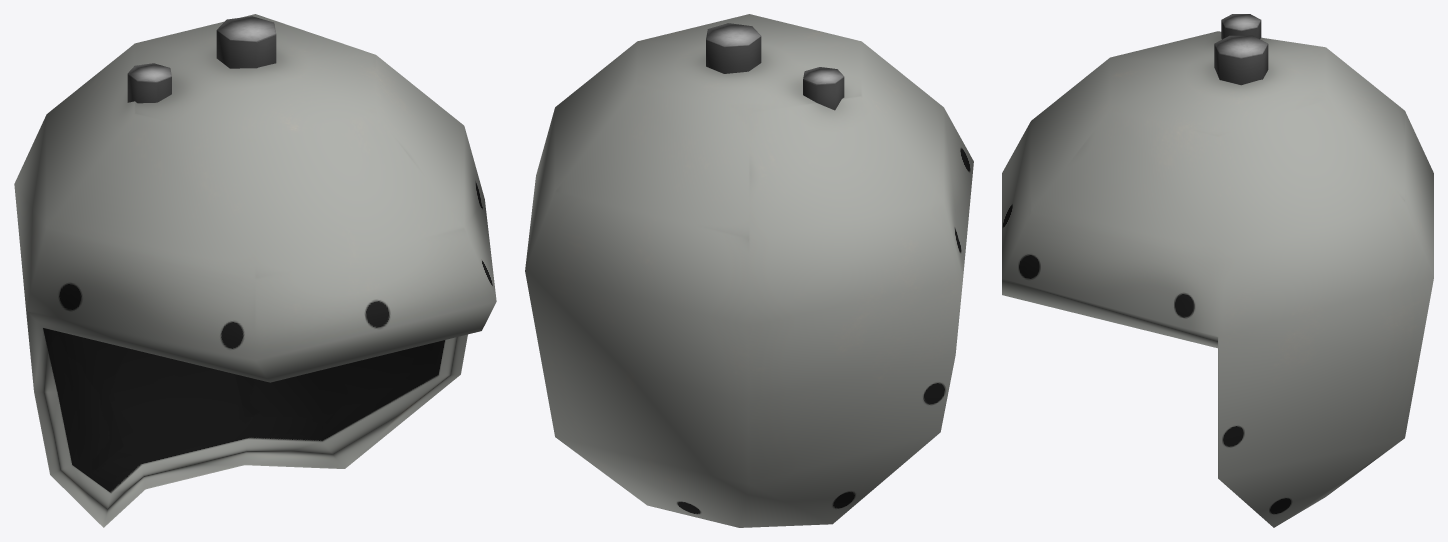
Rendered from Vital_part3.gltf.
3 renders of one model, left to right at view 1: azimuth 30°, elevation 25°; view 2: azimuth 150°, elevation 25°; view 3: azimuth 270°, elevation 25°, orthographic. The views are drawn at different scales.
Parts seen in each view (by area): view 1: pSphere1, pCylinder7, pCylinder8; view 2: pSphere1, pCylinder7, pCylinder8; view 3: pSphere1, pCylinder7, pCylinder8.
Part boxes in pixels (left/top/right/bottom): pSphere1: left=14, top=14, right=496, bottom=527; pCylinder7: left=216, top=16, right=276, bottom=68; pCylinder8: left=127, top=63, right=171, bottom=103; pSphere1: left=525, top=14, right=973, bottom=527; pCylinder7: left=706, top=23, right=761, bottom=73; pCylinder8: left=803, top=67, right=844, bottom=110; pSphere1: left=1002, top=31, right=1433, bottom=527; pCylinder7: left=1214, top=35, right=1268, bottom=85; pCylinder8: left=1221, top=14, right=1261, bottom=39.
Size of the model in its own units: 1.9 by 1.91 by 1.73.
Materials: 1 (1 with a texture image).
